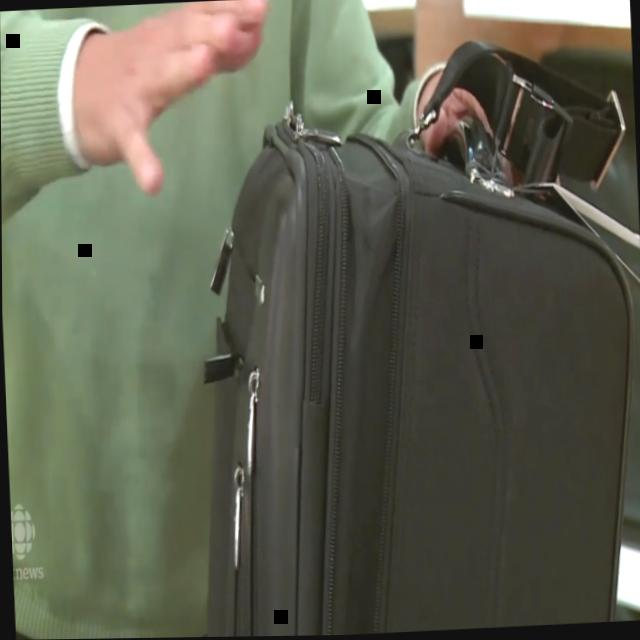luggage: (184, 95, 640, 638)
